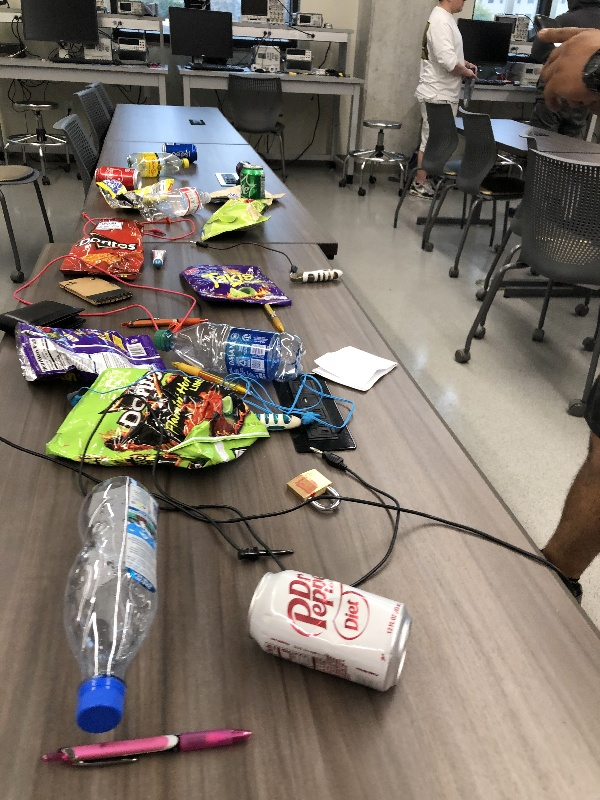bag: (37, 365, 275, 471), (11, 322, 166, 392), (52, 216, 155, 279), (175, 260, 299, 309), (198, 192, 272, 249), (92, 173, 178, 215), (200, 179, 289, 213)
bottle: (64, 477, 164, 736), (147, 322, 308, 382), (137, 185, 214, 224), (123, 152, 191, 174)
can: (239, 568, 421, 701), (91, 163, 143, 193), (237, 163, 268, 201), (160, 140, 201, 165), (233, 160, 249, 173)
